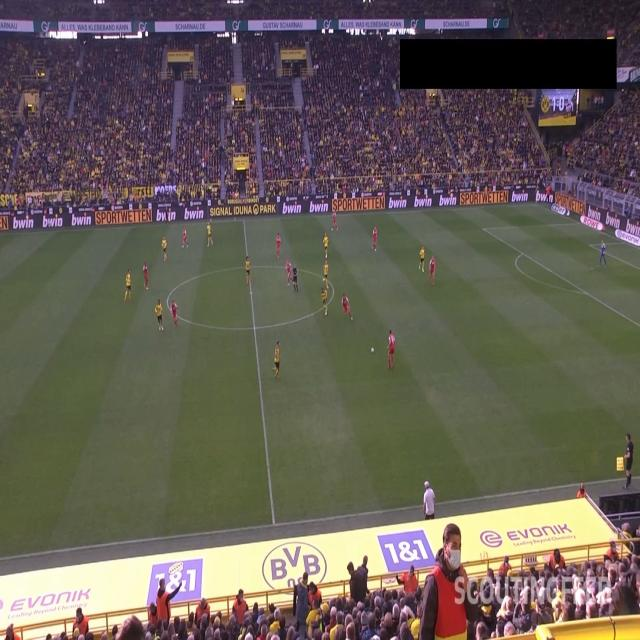ball: (370, 347, 375, 354)
